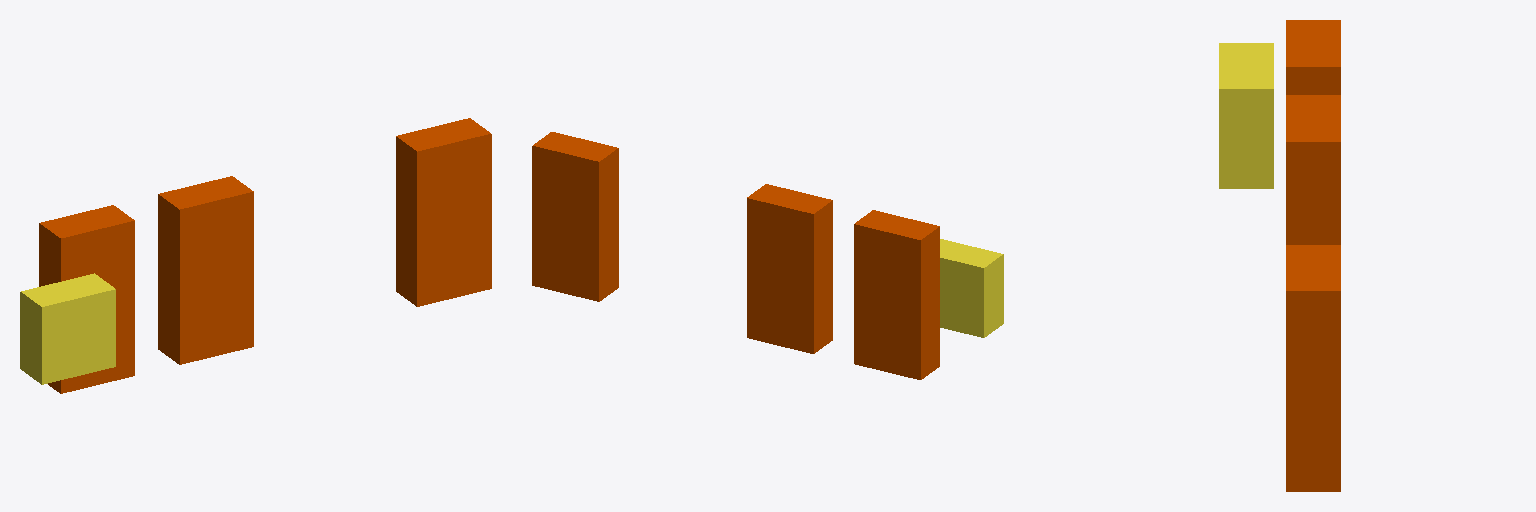
URDF robot description (unicycle):
<?xml version="1.0" ?>
<!-- =================================================================================== -->
<!-- |    This document was autogenerated by xacro from quadrotor_base.xacro           | -->
<!-- |    EDITING THIS FILE BY HAND IS NOT RECOMMENDED                                 | -->
<!-- =================================================================================== -->
<robot name="unicycle" xmlns:xacro="http://www.ros.org/wiki/xacro">

  <link name="link_x">
  </link>

  <link name="link_y">
  </link>

  <link name="link_theta">
  </link>


  <link name="base_link">
    <visual>
      <origin rpy="0 0 0" xyz="0 0 0"/>
      <geometry>
      <box size="0.5 0.25 0.5"/>
      </geometry>
    </visual>

    <collision>
      <origin rpy="0 0 0" xyz="0 0 0"/>
      <geometry>
      <box size="0.5 0.25 0.5"/>
      </geometry>
    </collision>
  </link>

  <link name="world">
  </link>

  <link name="obs1">
    <visual>
      <origin rpy="0 0 0" xyz=".3 .3 0"/>
      <geometry>
      <box size="0.5 .25 1"/>
      </geometry>
    </visual>

    <collision>
      <origin rpy="0 0 0" xyz=".3 .3 0"/>
      <geometry>
      <box size="0.5 .25 1"/>
      </geometry>
    </collision>

    <visual>
      <origin rpy="0 0 0" xyz="1.1 0.3 0"/>
      <geometry>
      <box size="0.5 .25 1"/>
      </geometry>
    </visual>


    <collision>
      <origin rpy="0 0 0" xyz="1.1 0.3 0"/>
      <geometry>
      <box size="0.5 .25 1"/>
      </geometry>
    </collision>

    <visual>
      <origin rpy="0 0 0" xyz="2.7 0.3 0"/>
      <geometry>
      <box size="0.5 .25 1"/>
      </geometry>
    </visual>


    <collision>
      <origin rpy="0 0 0" xyz="2.7 0.3 0"/>
      <geometry>
      <box size="0.5 .25 1"/>
      </geometry>
    </collision>
  </link>
  <!---->
  <!-- min: [0.0, 0.0] -->
  <!-- max: [3.0, 1.2] -->

  <!-- <joint name="myjoint" type="planar"> -->
  <!-- <parent link="world"/> -->
  <!-- <child link="base_link"/> -->
  <!-- </joint> -->
  <joint name="join_x" type="prismatic">
  <parent link="world"/>
  <child link="link_x"/>
  <axis xyz="1 0 0"/>
  <limit effort="1000.0" lower="0.0" upper="3.0" velocity="1.0"/>
  </joint>

  <joint name="join_y" type="prismatic">
    <parent link="link_x"/>
    <child link="link_y"/>
    <axis xyz="0 1 0"/>
  <limit effort="1000.0" lower="0.0" upper="1.2" velocity="1.0"/>
  </joint>

  <joint name="join_theta" type="revolute">
    <parent link="link_y"/>
    <child link="link_theta"/>
    <axis xyz="0 0 1"/>
    <limit effort="1000.0" lower="-3.14159265359" upper= "3.14159265359" velocity="1.0"/>
  </joint>

  <joint name="join_base" type="fixed">
    <parent link="link_theta"/>
    <child link="base_link"/>
  </joint>

  <joint name="obs1_j" type="fixed">
  <parent link="world"/>
  <child link="obs1"/>
  </joint>


</robot>

--- Facts derived from the render (not from the file) ---
Views: 3 orthographic renders of the robot side by side, from view 1: azimuth 30°, elevation 25°; view 2: azimuth 150°, elevation 25°; view 3: azimuth 270°, elevation 25°.
Robot: unicycle — 6 links, 5 joints (1 revolute, 2 prismatic, 2 fixed); root link world; default pose: all joints at 0.
Links seen in each view (by area): view 1: obs1, base_link; view 2: obs1, base_link; view 3: obs1, base_link.
Boxes of the visible links, bbox=[...] form: obs1: bbox=[39, 118, 491, 393]; base_link: bbox=[20, 273, 115, 384]; obs1: bbox=[532, 132, 939, 379]; base_link: bbox=[940, 239, 1003, 337]; obs1: bbox=[1286, 20, 1340, 491]; base_link: bbox=[1219, 43, 1273, 188].
Bounding box of the posed robot: 3.2 × 0.55 × 1 m (x, y, z).
Geometry: primitives only (box / cylinder / sphere), no mesh files.